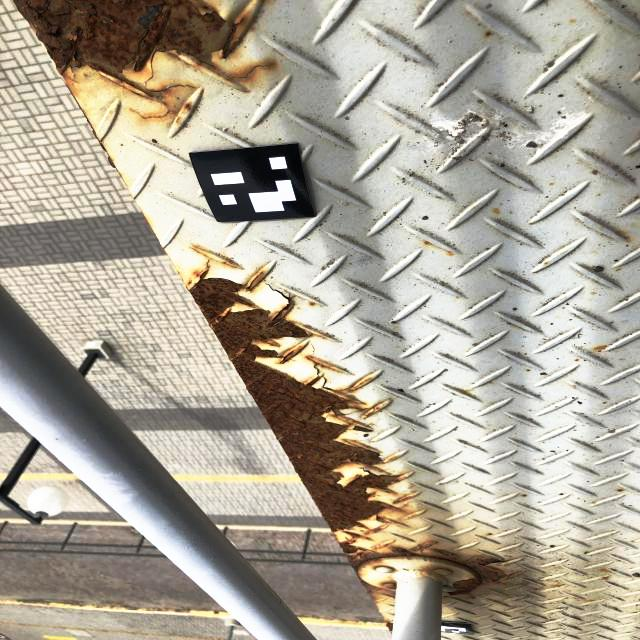Corrosion: (185, 266, 412, 540), (10, 0, 275, 123), (334, 535, 523, 603), (189, 245, 239, 268), (385, 619, 393, 634), (471, 596, 476, 600)
